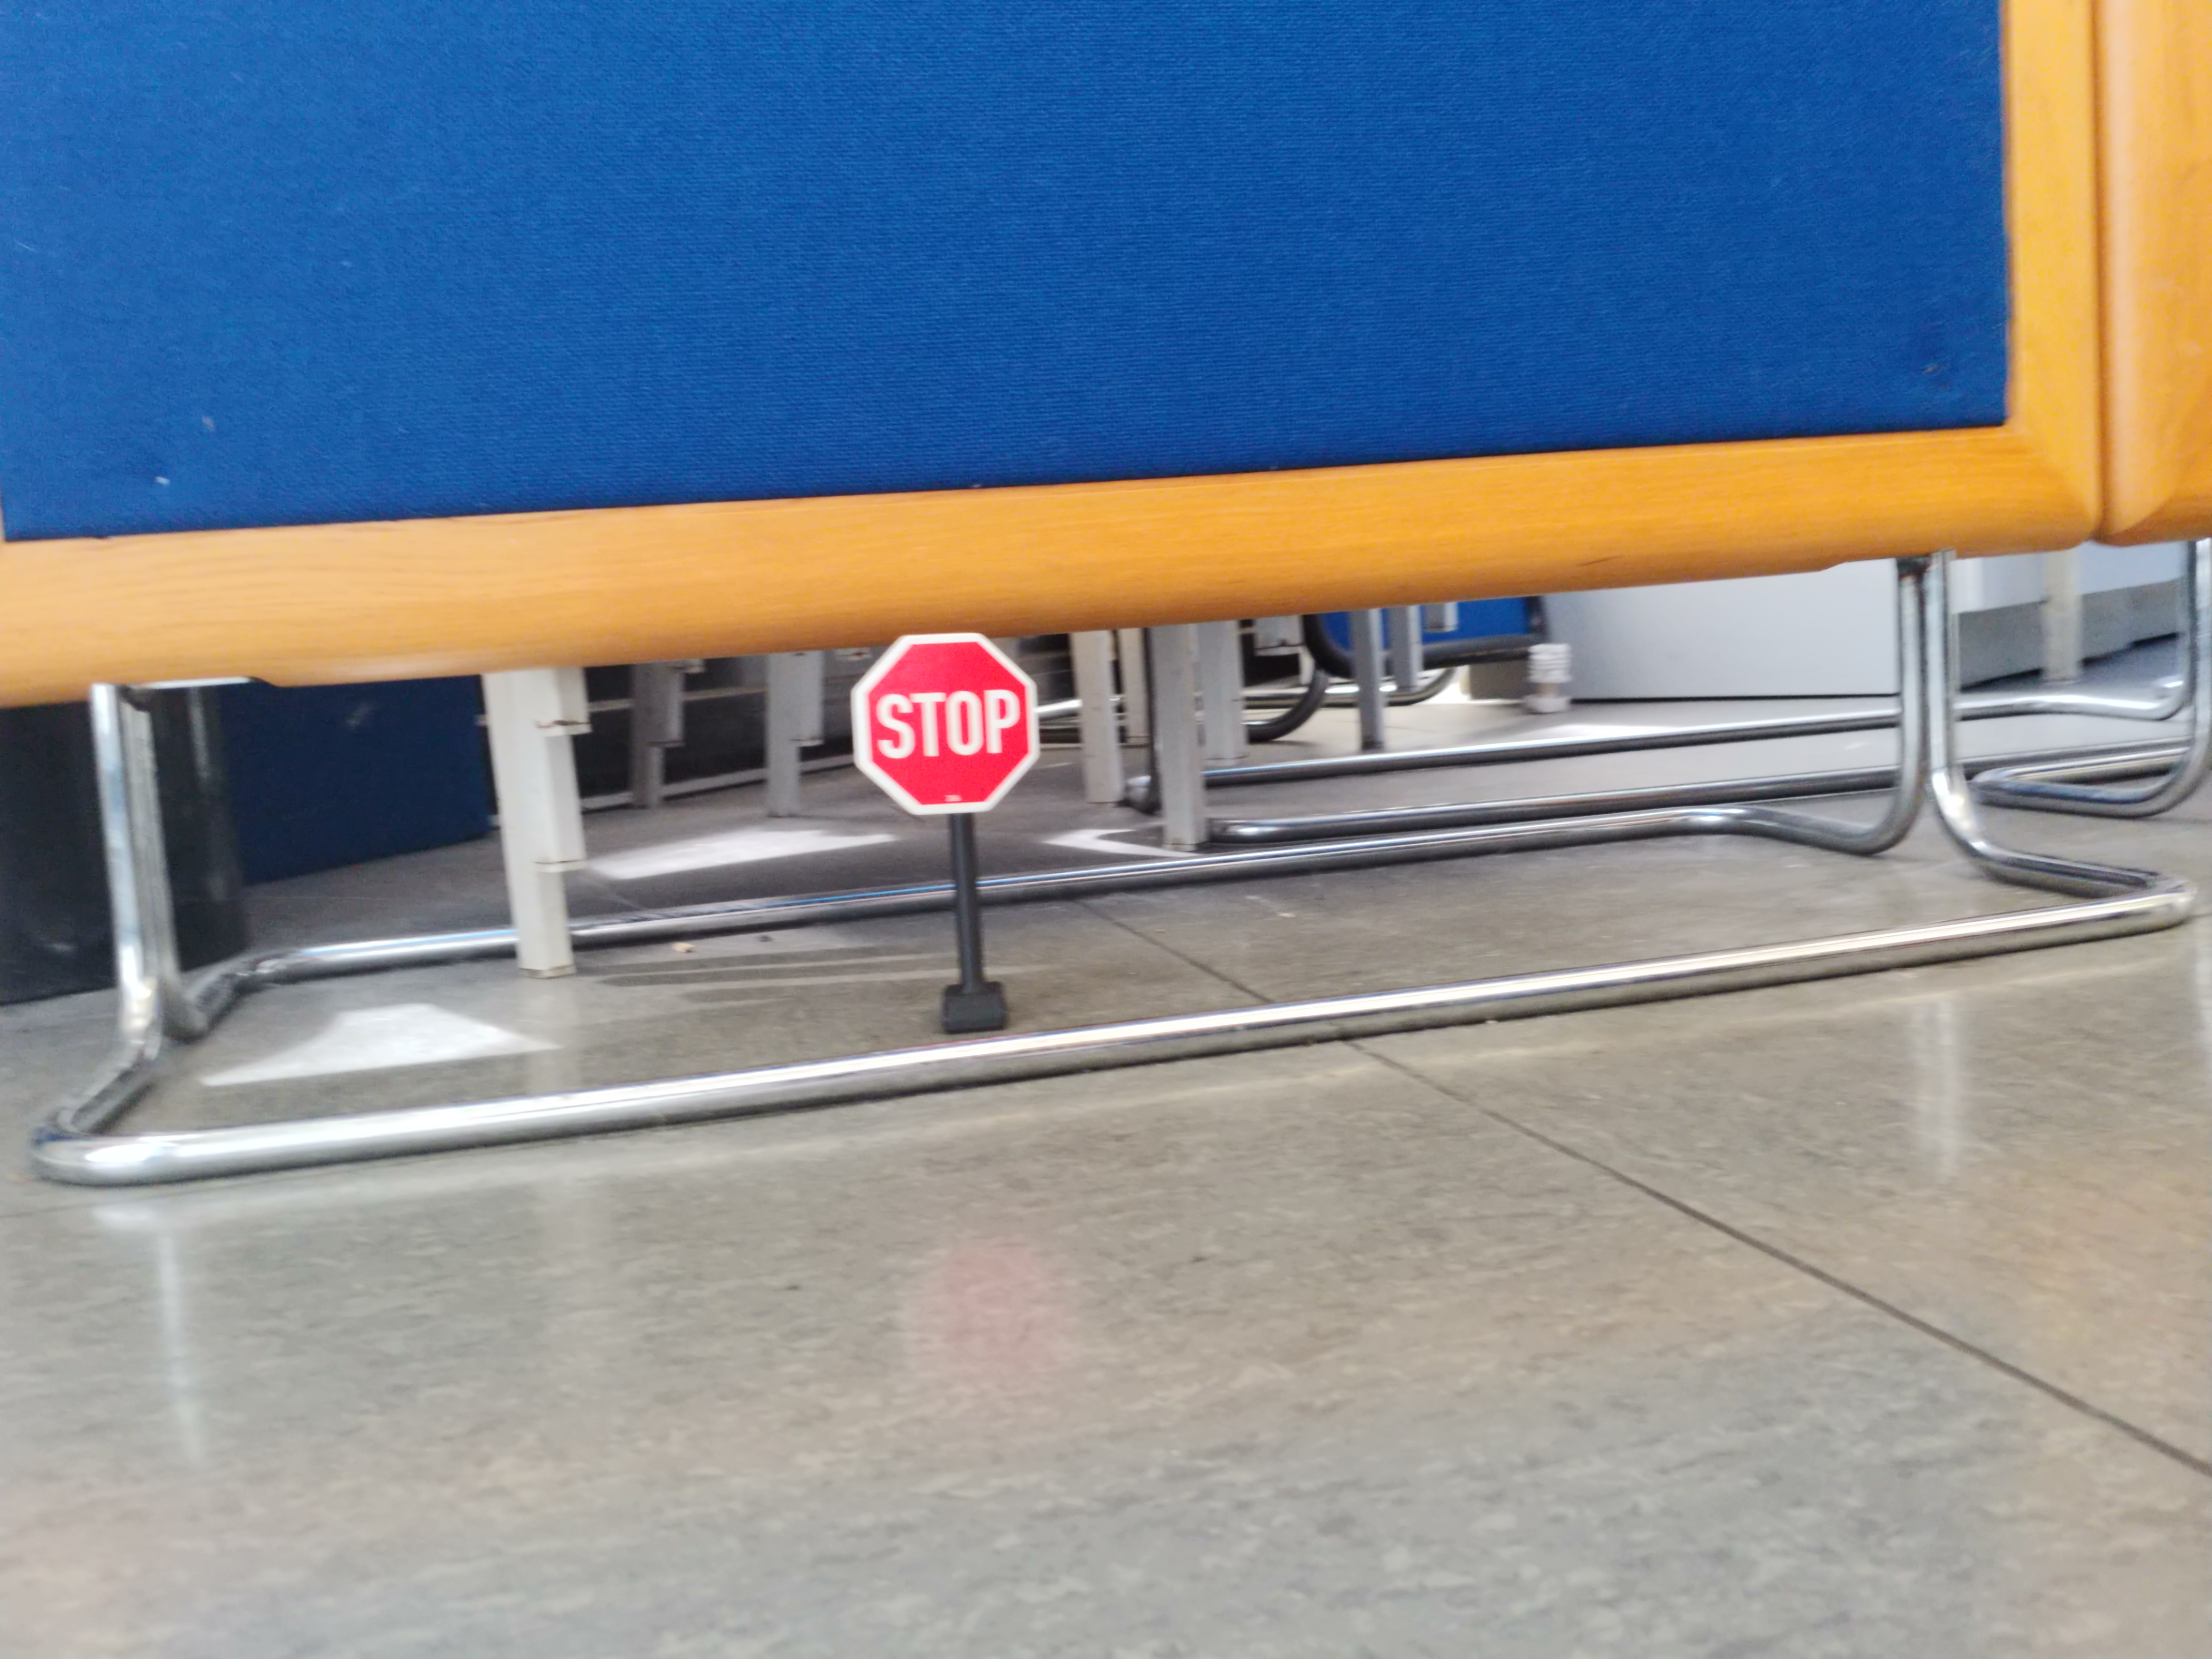Stop: (848, 633, 1042, 810)
